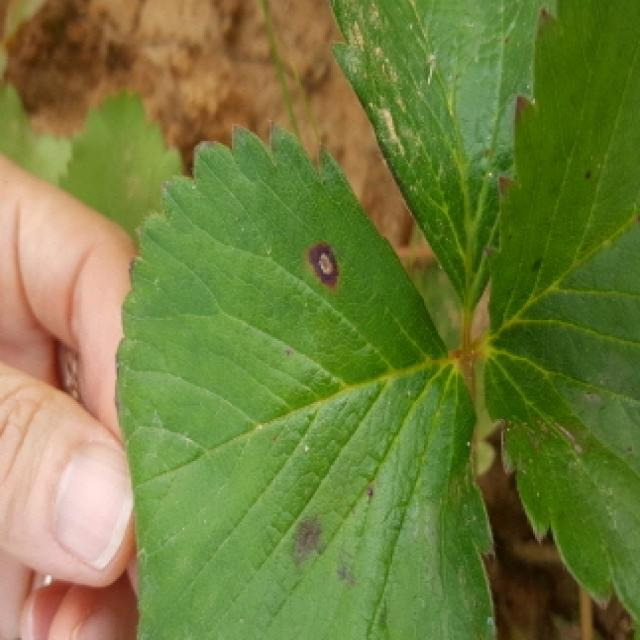Leaf Spot: (113, 122, 497, 640), (484, 0, 640, 627)
